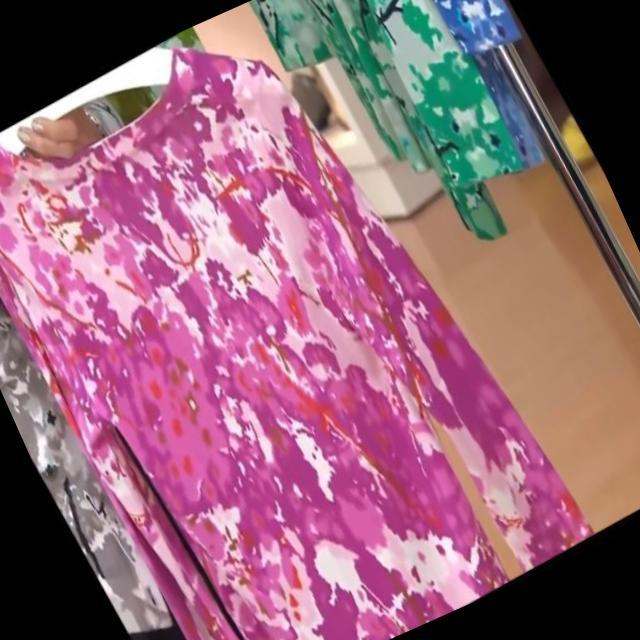person: (0, 47, 406, 640)
